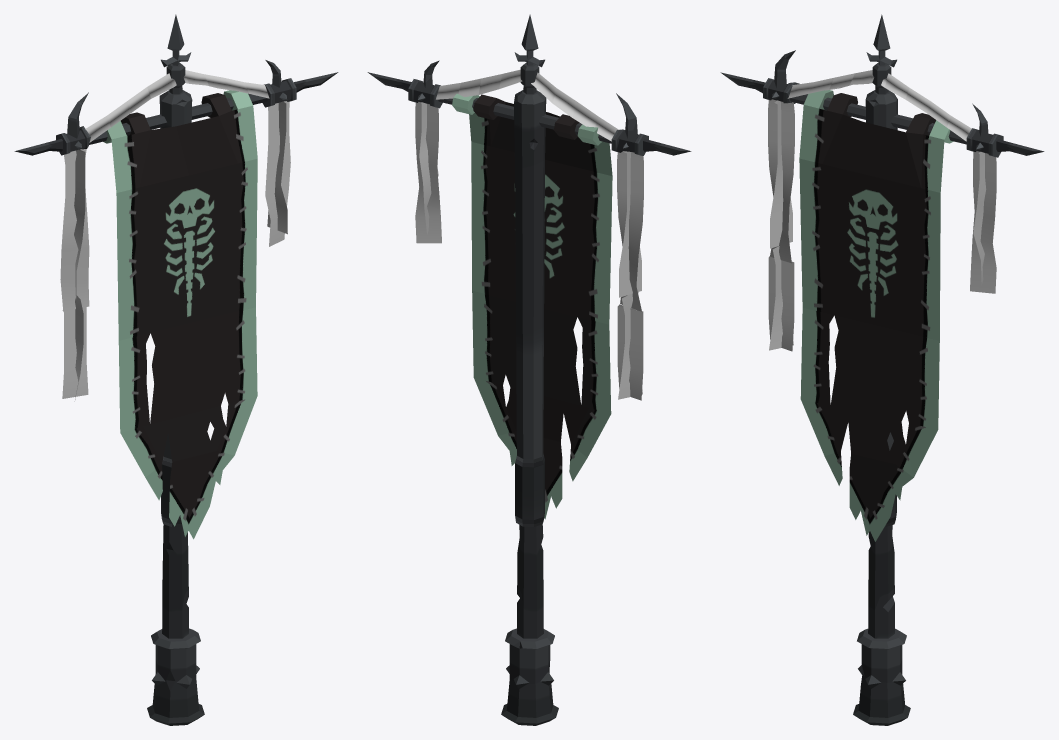
File: SM_Prop_Banner_05.fbx
3 views of the same model, side by side, from view 1: azimuth 30°, elevation 25°; view 2: azimuth 150°, elevation 25°; view 3: azimuth 330°, elevation 25° (orthographic).
Parts seen in each view (by area): view 1: SM_Prop_Banner_05_Flag, SM_Prop_Banner_05; view 2: SM_Prop_Banner_05_Flag, SM_Prop_Banner_05; view 3: SM_Prop_Banner_05_Flag, SM_Prop_Banner_05.
Part boxes in pixels (left/top/right/bottom): SM_Prop_Banner_05_Flag: left=103, top=90, right=257, bottom=539; SM_Prop_Banner_05: left=14, top=14, right=338, bottom=725; SM_Prop_Banner_05_Flag: left=452, top=93, right=612, bottom=519; SM_Prop_Banner_05: left=367, top=14, right=691, bottom=725; SM_Prop_Banner_05_Flag: left=799, top=90, right=953, bottom=541; SM_Prop_Banner_05: left=720, top=14, right=1044, bottom=725.
Size of the model in its own units: 212 by 438 by 33.91.
